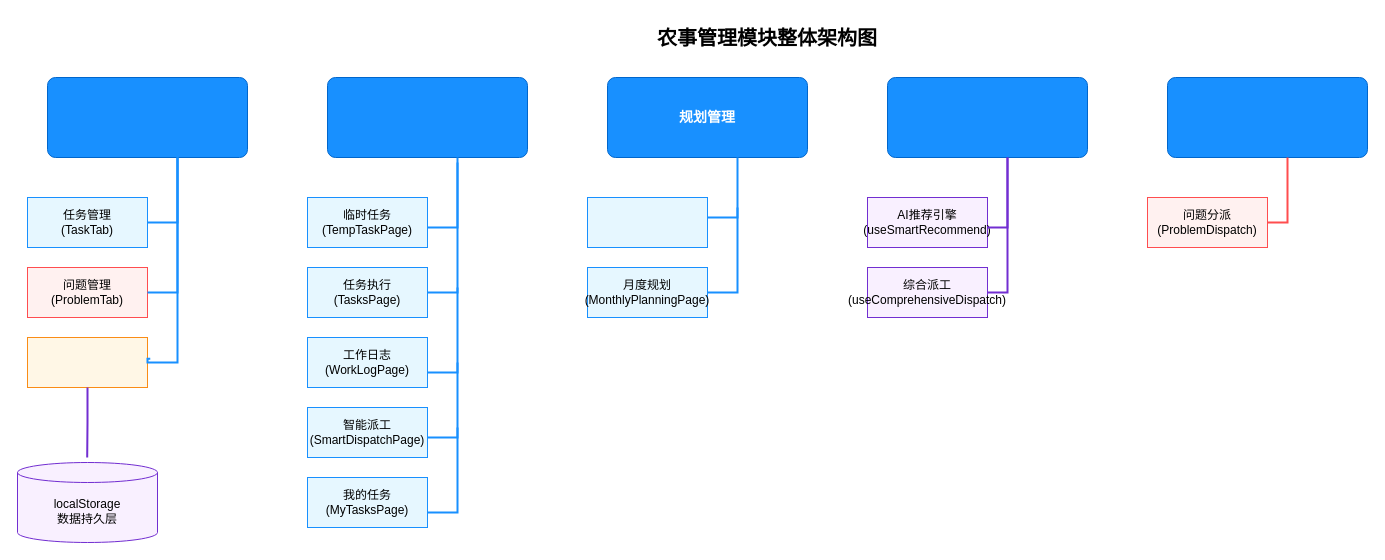
The diagram is 1385 pixels wide and 560 high, and some of its shapes have lost their labels. The shapes that lost their labels are listed below. From the top down, each one's centre as x and y in pixels, then its label:
At point (147, 117): "农事任务中心 (FarmTaskHub)".
At point (427, 117): "任务中心 (TaskCenterPage)".
At point (987, 117): "智能派工 (SmartDispatch)".
At point (1267, 117): "问题管理 (ProblemDispatch)".
At point (647, 222): "每日规划 (DailyPlanningPage)".
At point (87, 362): "巡查记录 (InspectionTab)".
